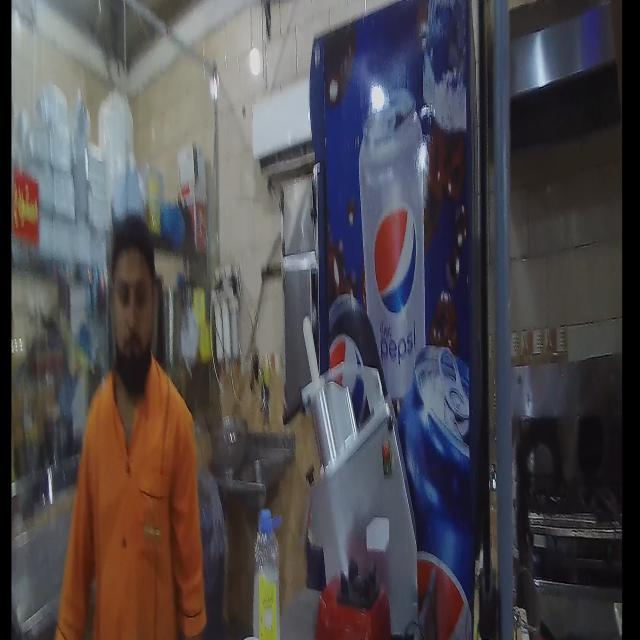face_no_mask: (109, 251, 158, 386)
